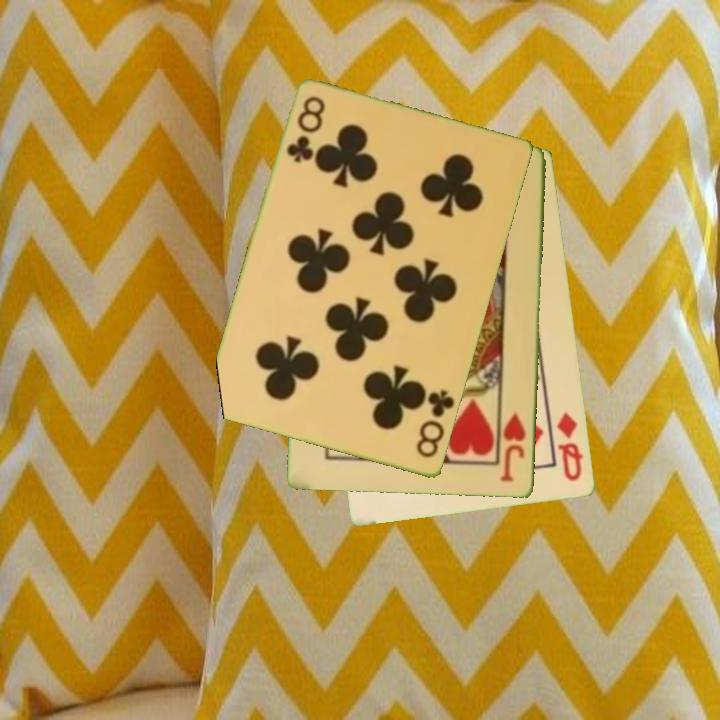8c: (413, 386, 458, 462), (283, 93, 329, 167)
Jh: (497, 409, 529, 485)
Qd: (553, 409, 587, 485)
